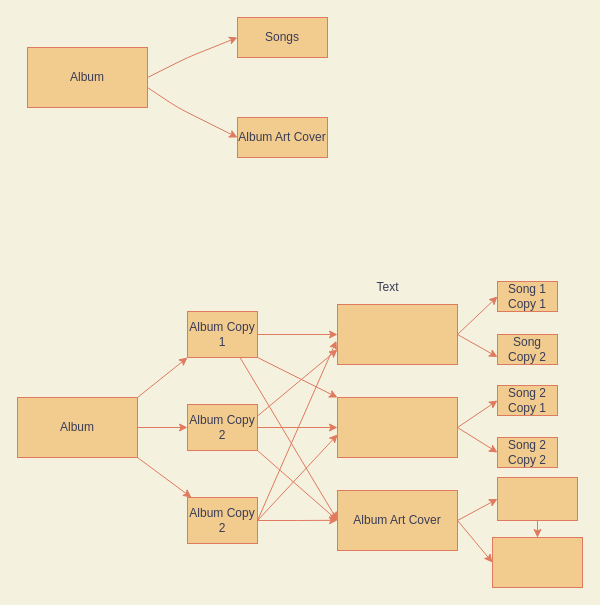
Some shapes in this 600 by 605 pixel diagram are drawn without their labels. The centre of each missing label's shape, as x and y in pixels:
"Album Cover Copy 1" belongs at [537,498].
"Album Cover Copy 2" belongs at [537,562].
"Song 1" belongs at [397,334].
"Song 2" belongs at [397,427].
